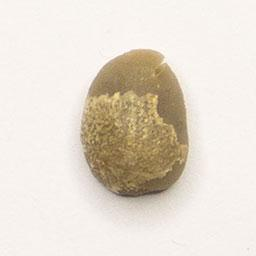premium: (76, 45, 193, 199)
